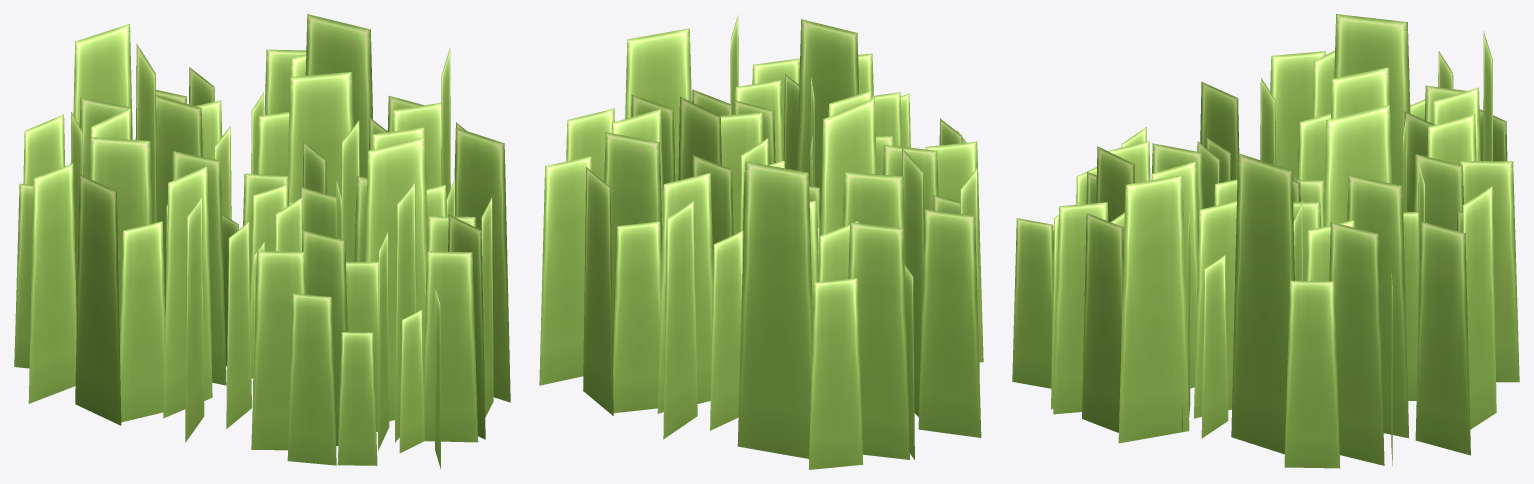
The model's file is SM_Grass_01_B.glb.
The picture shows the model from 3 angles, left to right: view 1: azimuth 30°, elevation 25°; view 2: azimuth 150°, elevation 25°; view 3: azimuth 270°, elevation 25°; orthographic projection.
Visible parts, largest first — view 1: SM_Grass_01_B; view 2: SM_Grass_01_B; view 3: SM_Grass_01_B.
Part boxes in pixels (bbox=[...]): SM_Grass_01_B: bbox=[14, 14, 510, 469]; SM_Grass_01_B: bbox=[539, 15, 983, 469]; SM_Grass_01_B: bbox=[1012, 14, 1519, 468].
Size of the model in its own units: 0.3286 by 0.2319 by 0.3434.
Materials: 1 (1 with a texture image).
